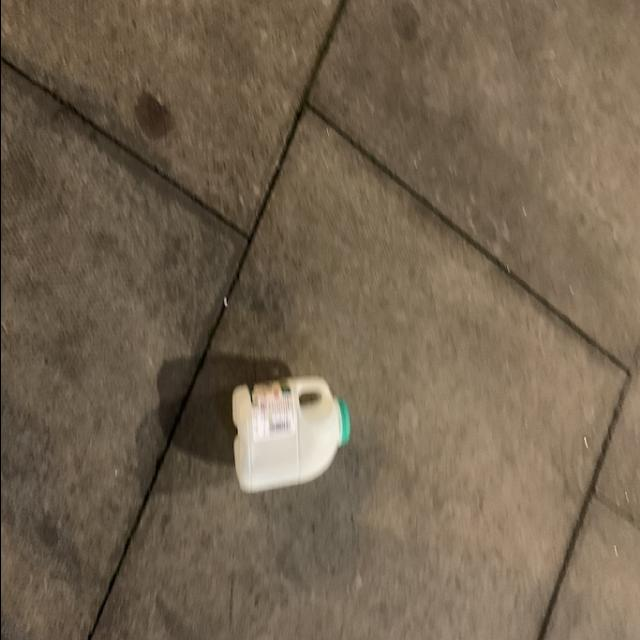litter: (229, 375, 353, 495)
